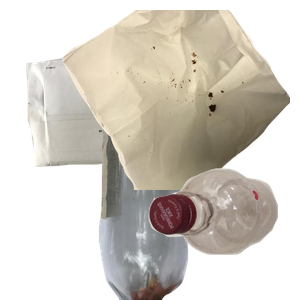glass: (96, 120, 283, 300)
paper: (24, 43, 242, 202)
plastic: (146, 166, 300, 300)
trash: (60, 10, 300, 190)
